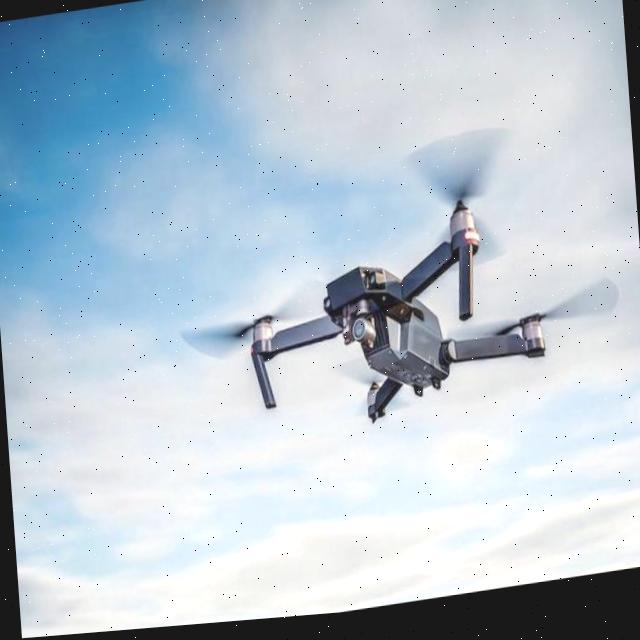drone: (186, 142, 618, 450)
